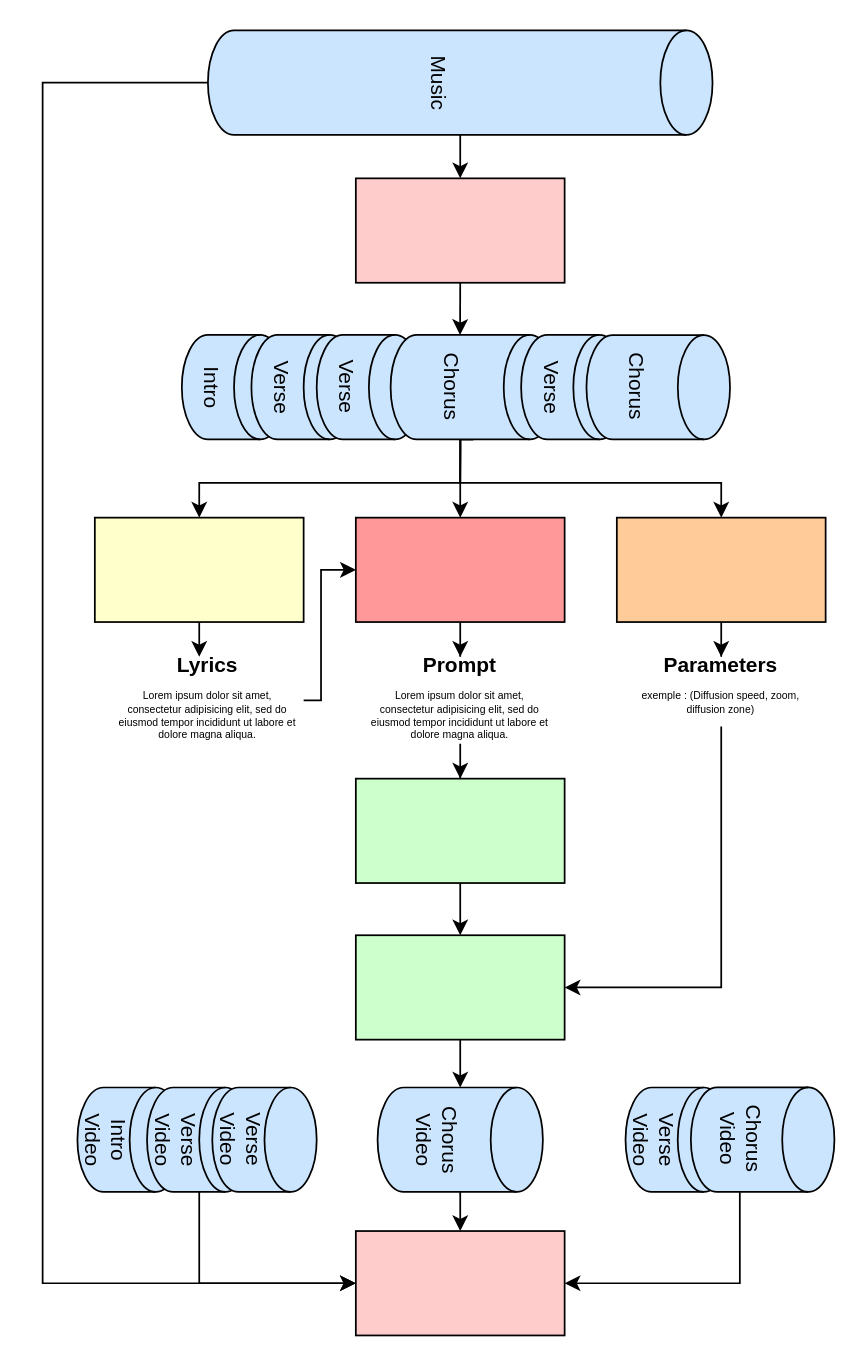
The diagram is 867 pixels wide and 1366 high, and some of its shapes have lost their labels. The centre of each missing label's shape, as x and y in pixels:
Audio features extraction: pixel 720 569
Audio to Prompt: pixel 459 569
Prompt enhancement: pixel 459 830
Segmentation: pixel 459 230
speech to text: pixel 198 569
Stable Diffusion Video Generation: pixel 459 987
Video and audio reconstruction: pixel 459 1282
